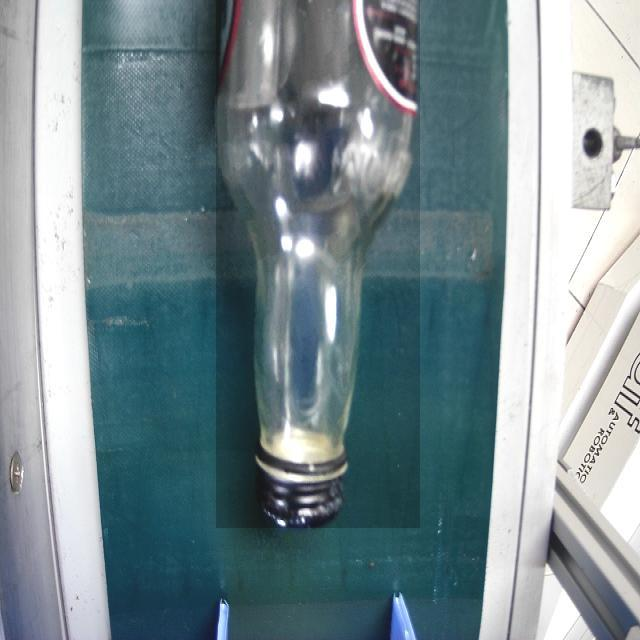Glass: (216, 0, 420, 528)
